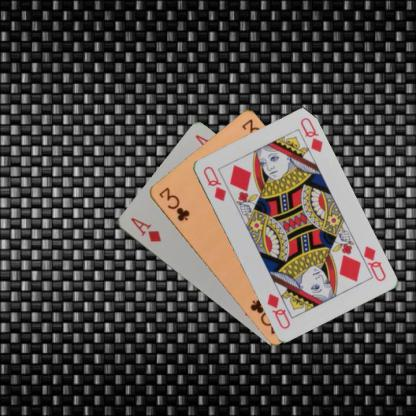3c: (156, 184, 191, 223)
Ad: (127, 215, 162, 244)
Qd: (354, 243, 387, 283), (200, 163, 227, 203)
